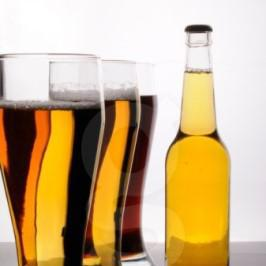beer: (166, 25, 229, 266)
